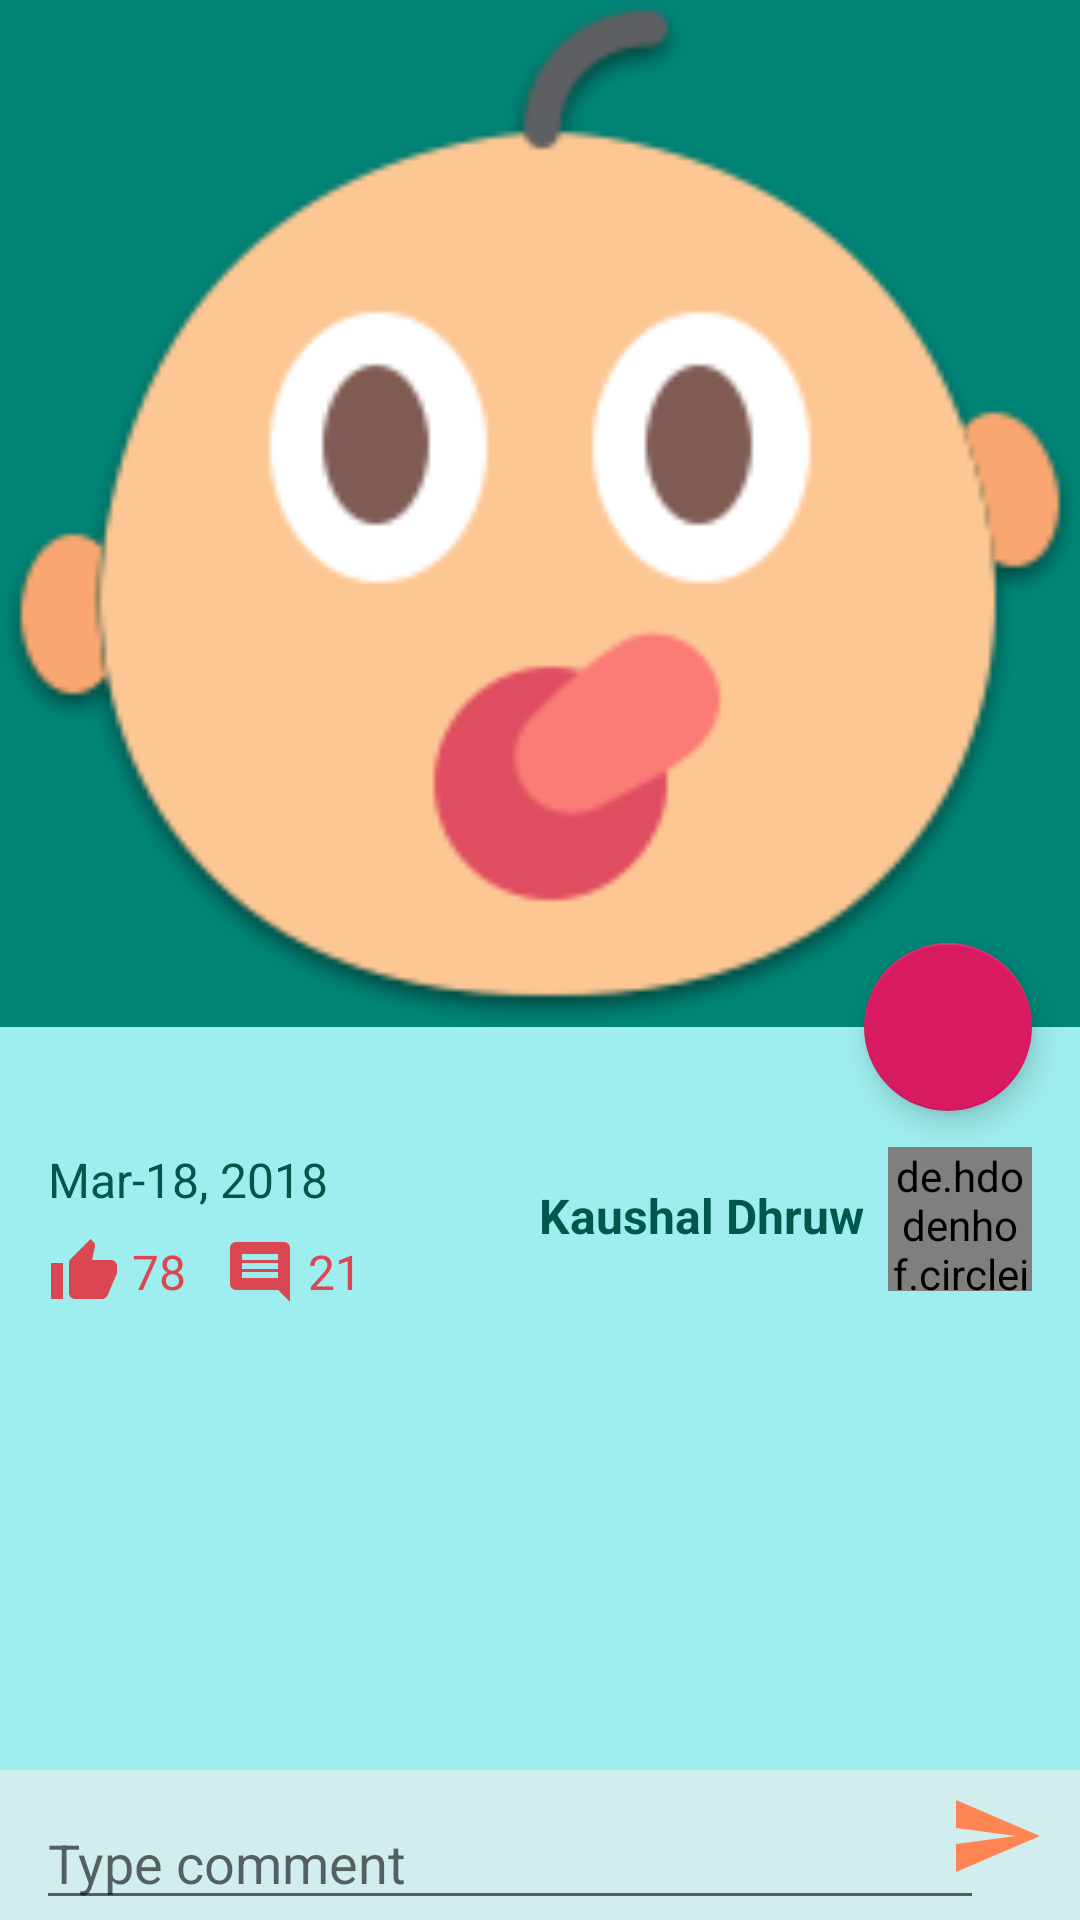

Locate icon controls on the screen. Image size 1080*1920, boxes as (x1, y1, x2, y2).
Submit comment: (956, 1800, 1040, 1872)
